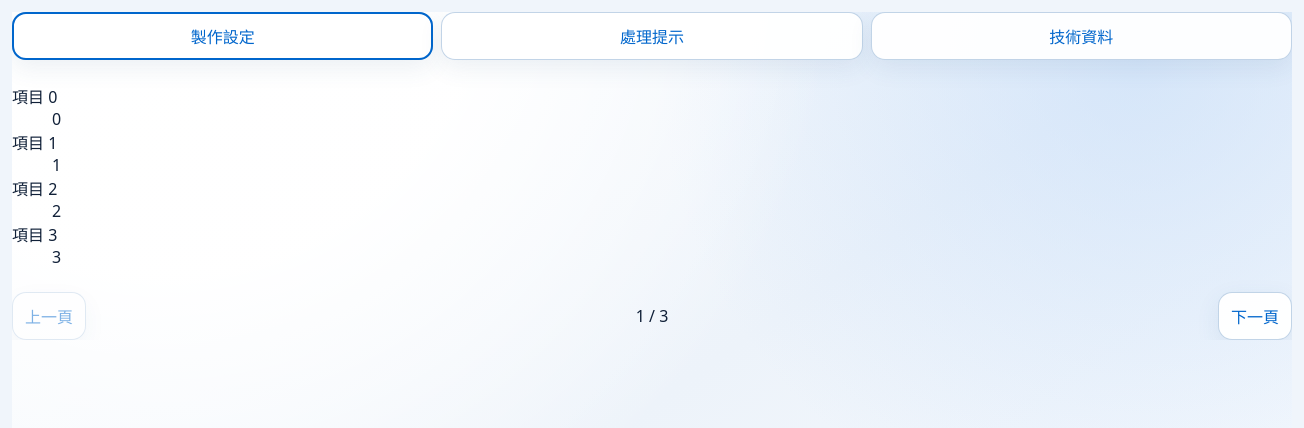
Test: keeps every detail accessible through bounded pages and keyboard tabs
Expected: the text "項目 0" is shown, [12,86,57,108]
Expected: the text "項目 4" is not shown
Click the button with aria-label "製作設定下一頁" at (1255, 316), box [1218,292,1292,340]
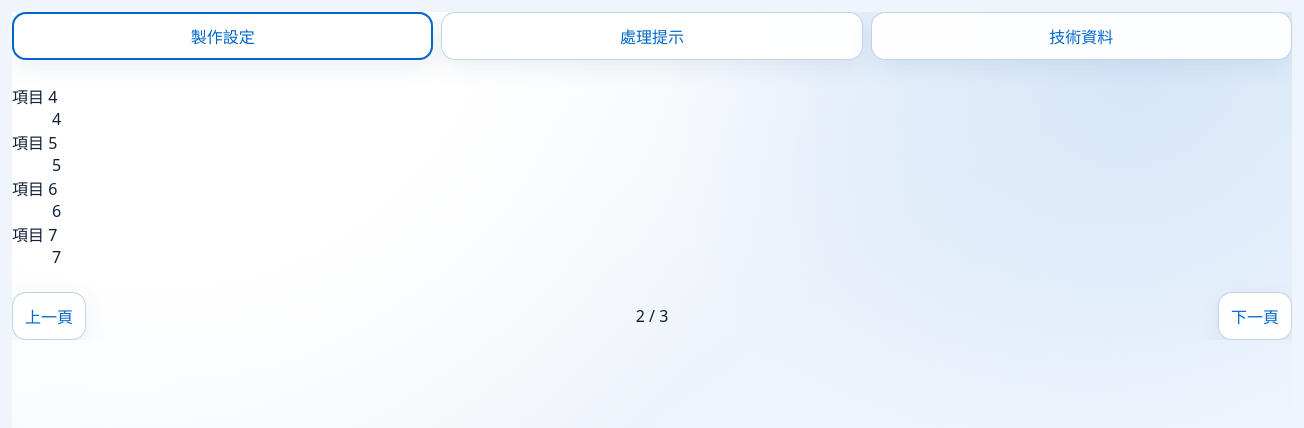
Expected: the text "項目 4" is shown, [12,86,57,108]
Click the button with aria-label "製作設定下一頁" at (1255, 316), box [1218,292,1292,340]
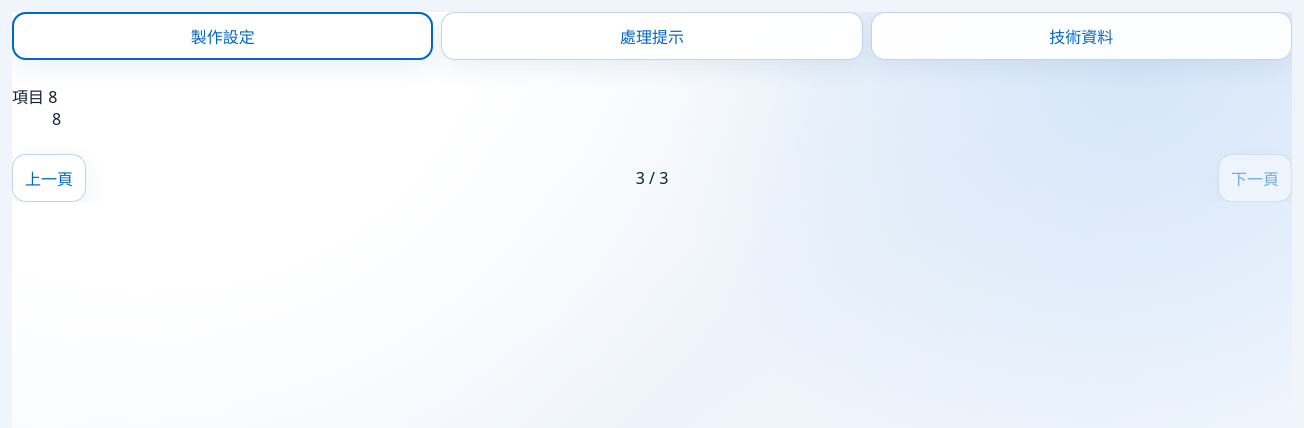
Expected: the text "項目 8" is shown, [12,86,57,108]
Press ArrowRight in the tab "製作設定", box [12,12,433,60]
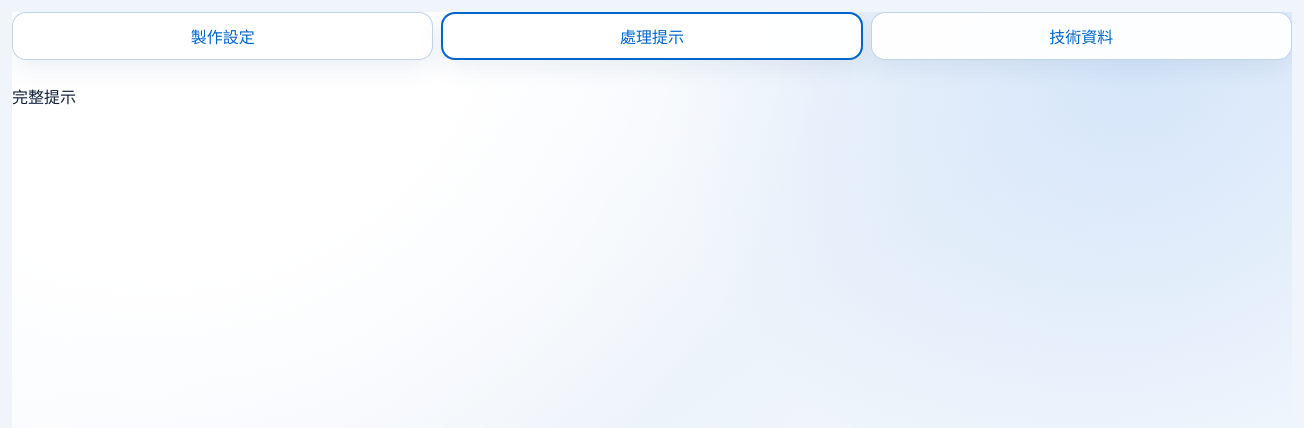
Expected: the text "完整提示" is shown, [12,86,76,108]
Press End in the tab "處理提示", box [441,12,863,60]
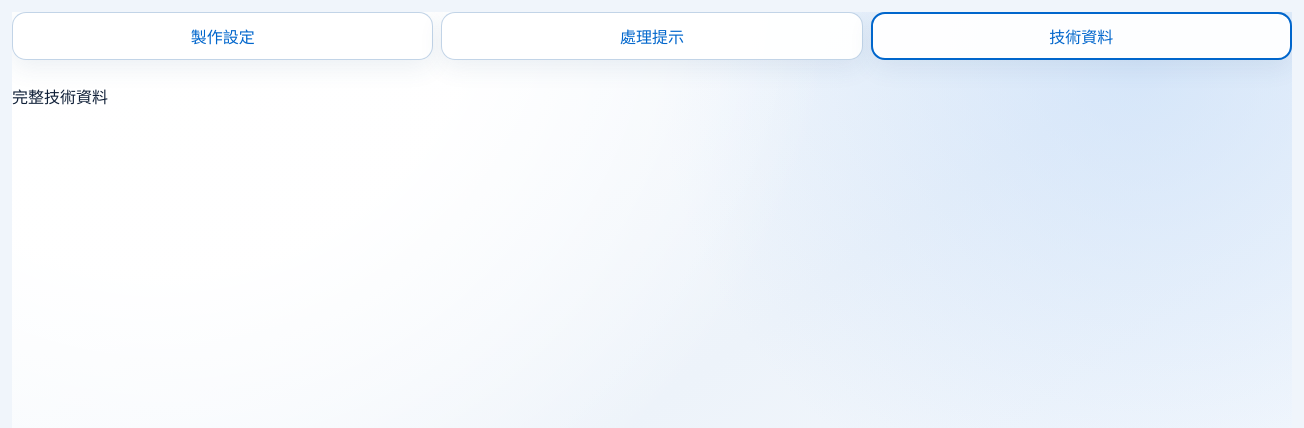
Expected: the text "完整技術資料" is shown, [12,86,108,108]
